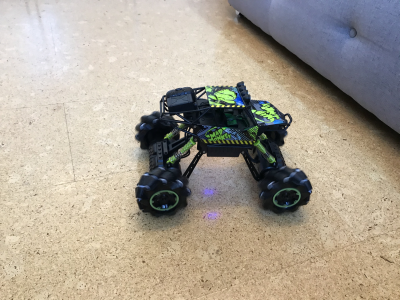remote control car: (128, 78, 315, 218)
